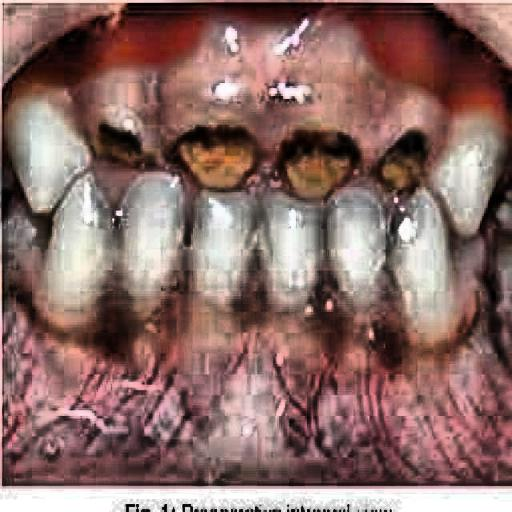Caries: (98, 68, 432, 228)
